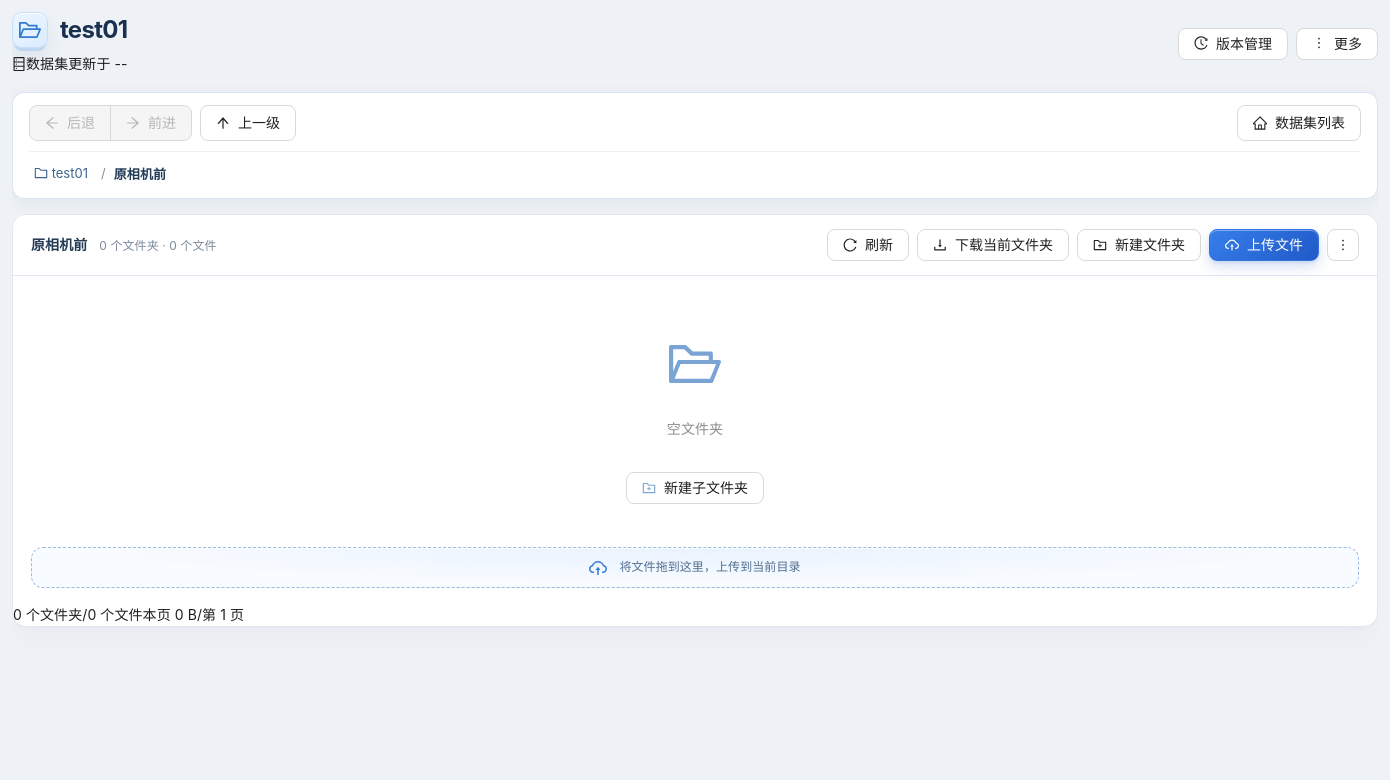
processed result upload controls › preserves unrestricted raw directory inputs
This screenshot has width=1390, height=780.
Expected: the button "上传文件" is enabled, [1209, 229, 1319, 261]
Click the button named "更多上传选项". click: [1343, 245]
box: [1327, 229, 1359, 261]
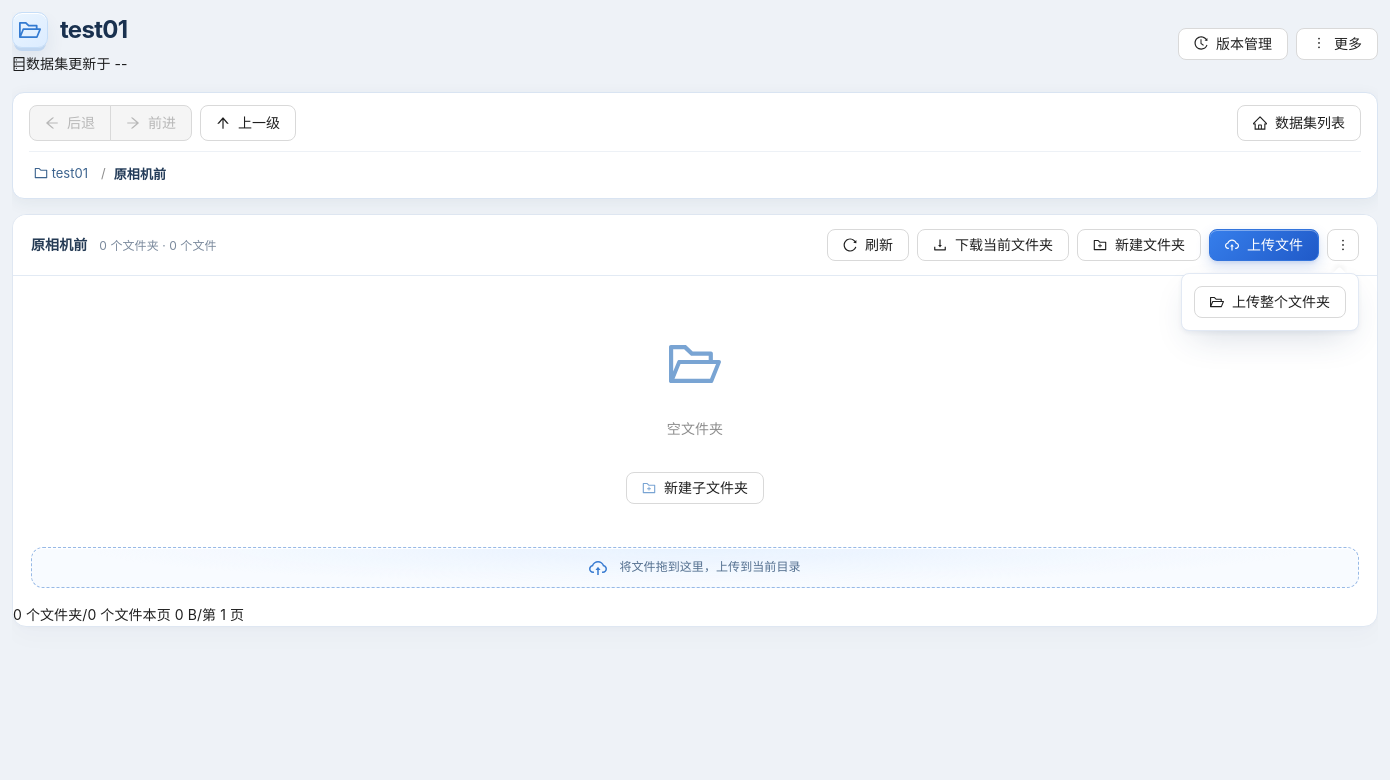
Expected: the button "上传整个文件夹" is enabled, [1194, 286, 1346, 318]
